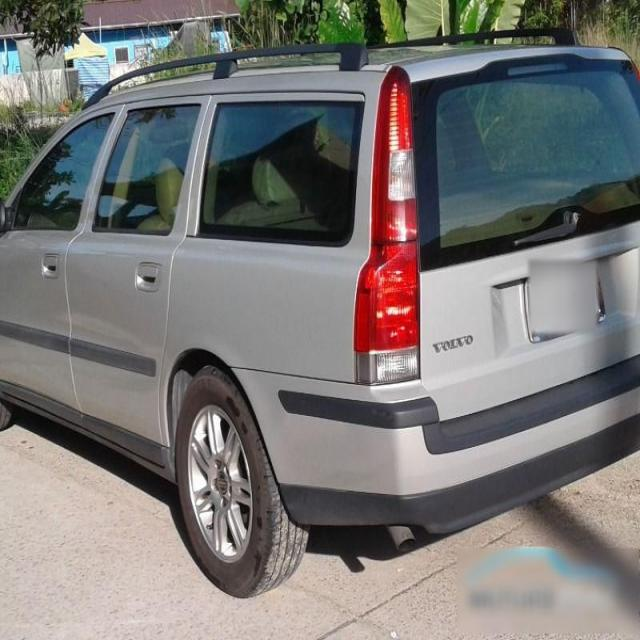back_bumper: (231, 356, 639, 534)
back_glass: (411, 54, 638, 273)
back_left_door: (65, 94, 212, 466)
back_right_light: (353, 64, 421, 386)
trunk: (420, 221, 638, 420)
wheel: (174, 362, 311, 600)
